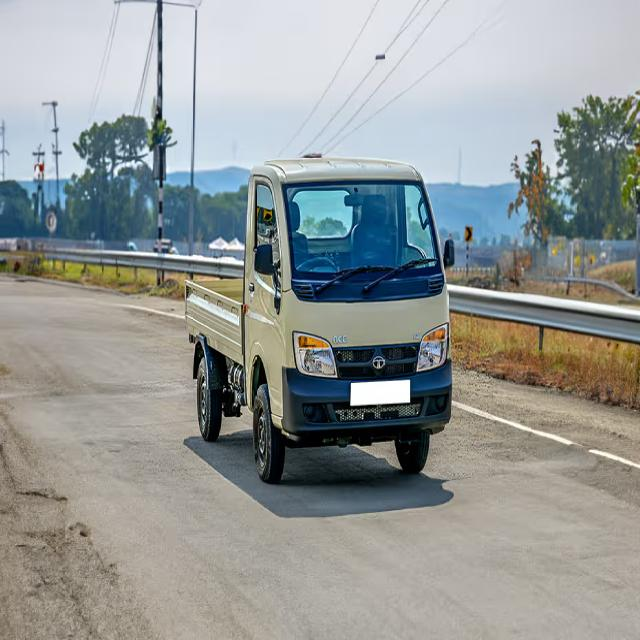Vehicles: (174, 142, 476, 503)
